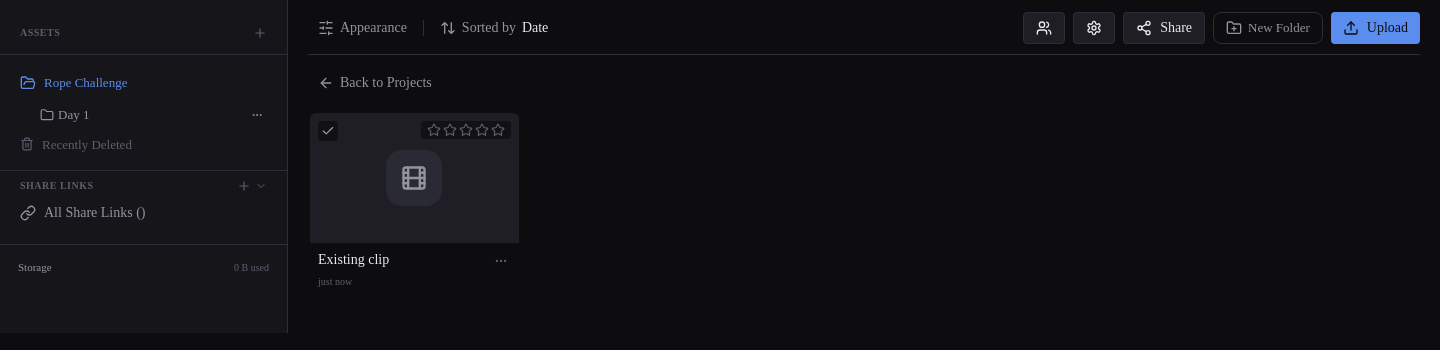
Test: §223 C.4 — withheld where uploading is not allowed › the Recently Deleted view does not
Click the text "Recently Deleted" at (87, 144), box [42,134,132,154]
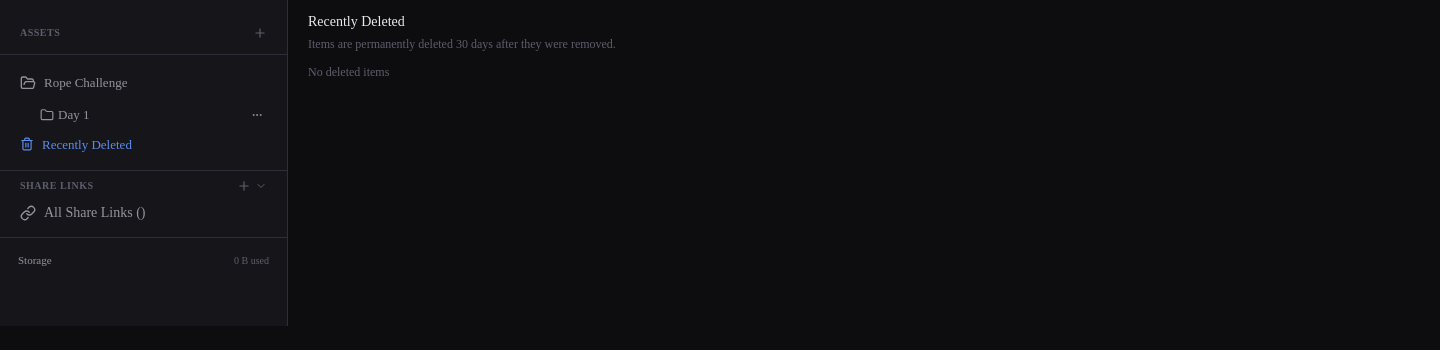
Expected: the heading "Recently Deleted" is shown, [308,14,405,29]
